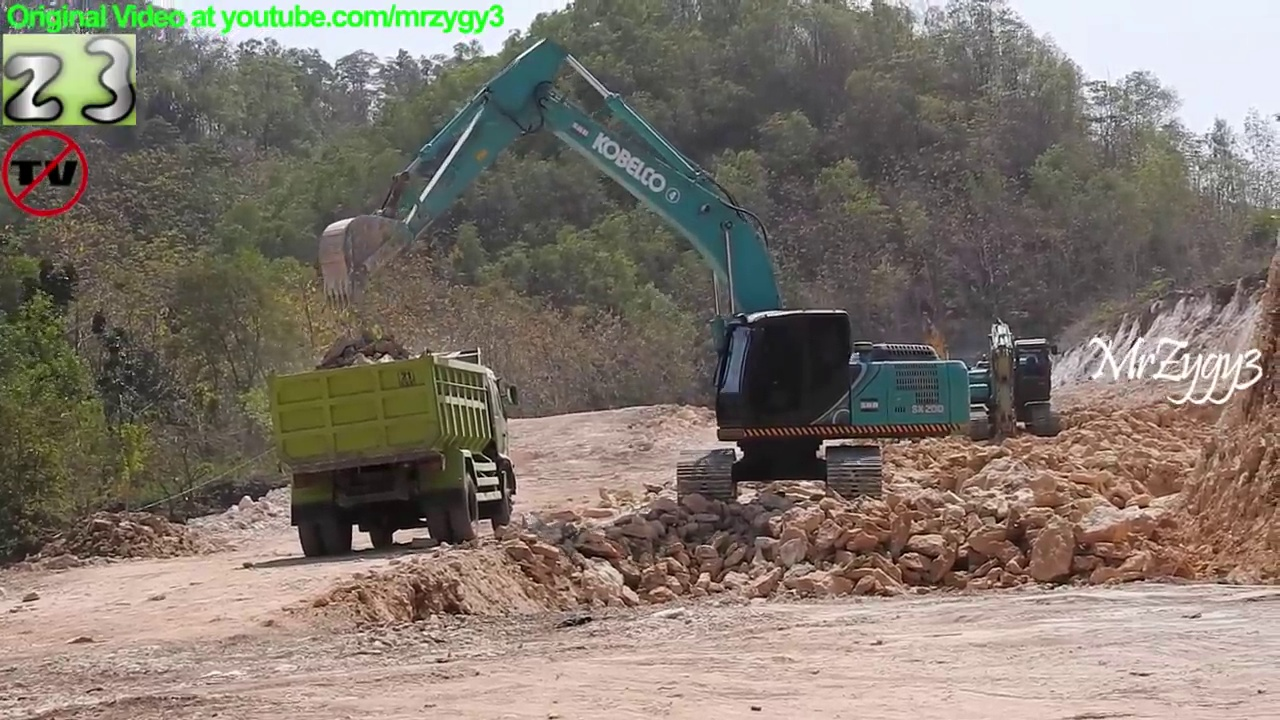excavator: (309, 31, 981, 510), (951, 312, 1067, 457), (893, 306, 978, 431)
truck: (260, 340, 530, 565)
